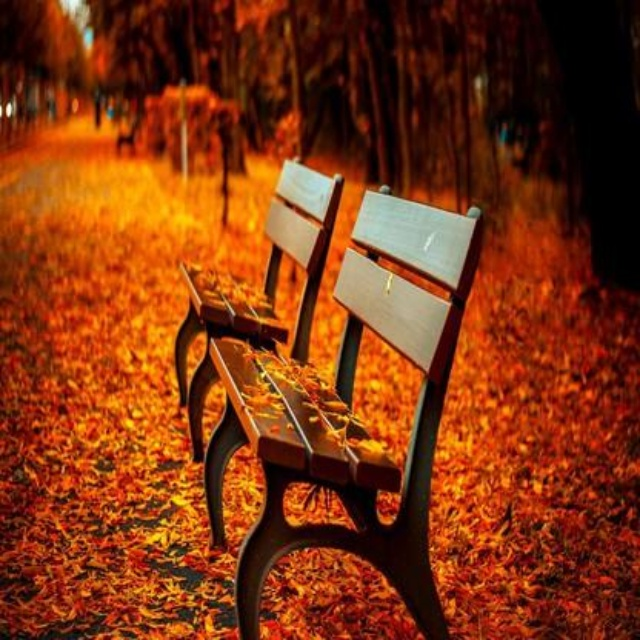obstacle: (198, 175, 491, 632)
